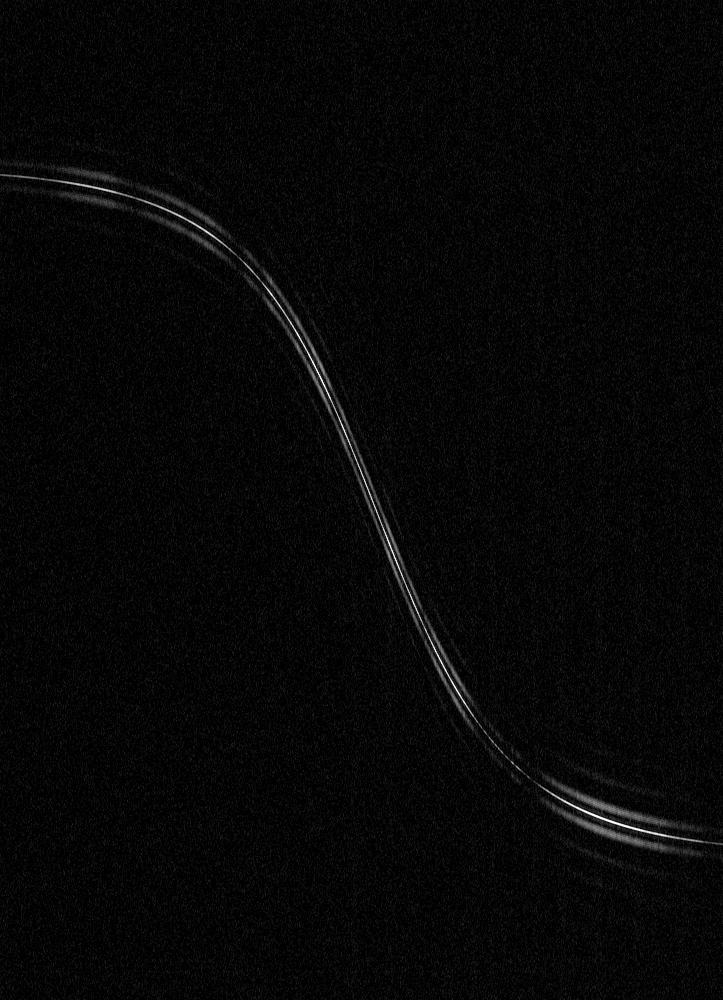signal: (0, 0, 722, 999)
